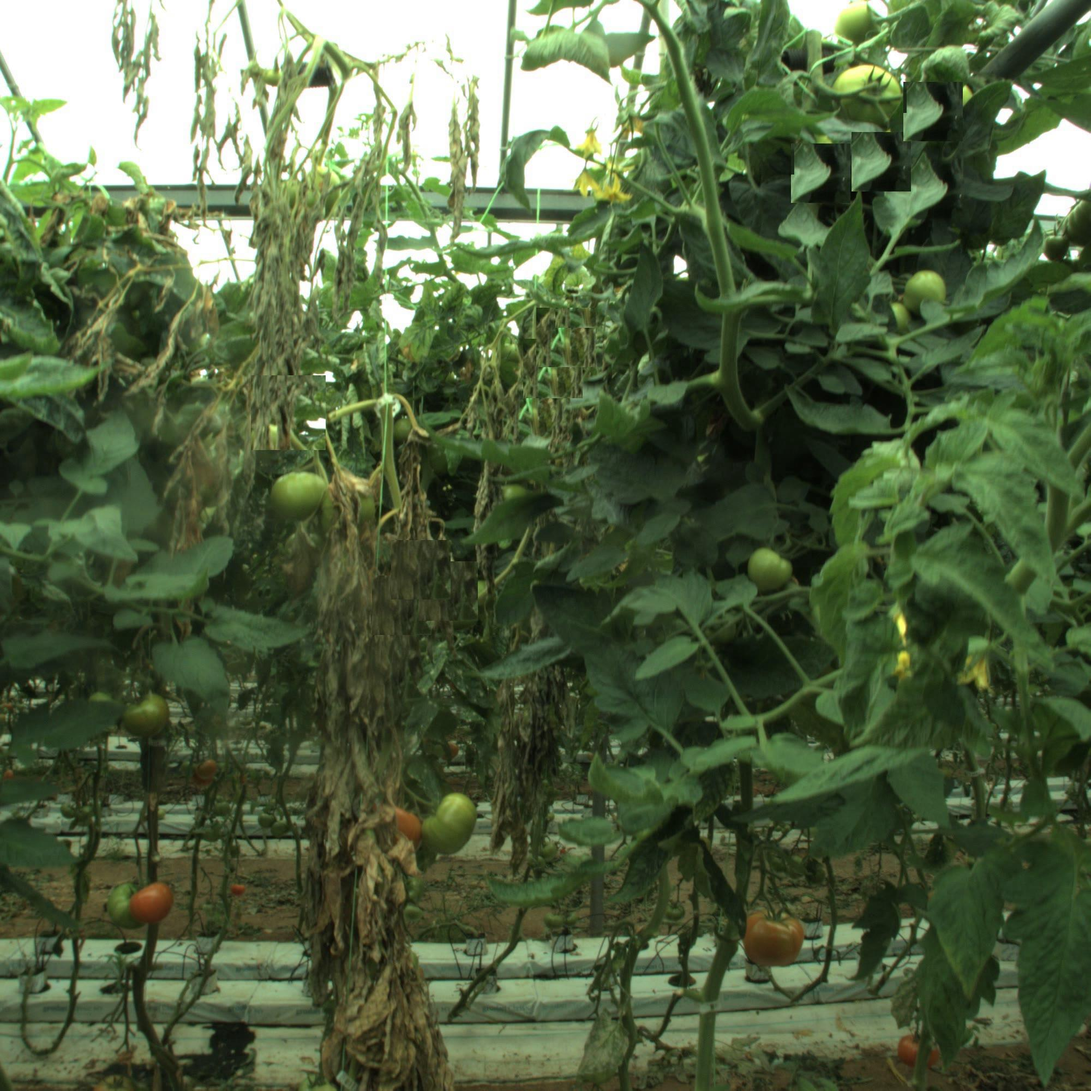semi-ripe: (744, 909, 804, 969), (899, 1029, 944, 1074), (134, 882, 175, 924)
unripe: (833, 59, 902, 128), (417, 793, 477, 853), (276, 473, 321, 518), (904, 268, 949, 313), (747, 544, 792, 589), (123, 691, 167, 735), (108, 887, 149, 928)
